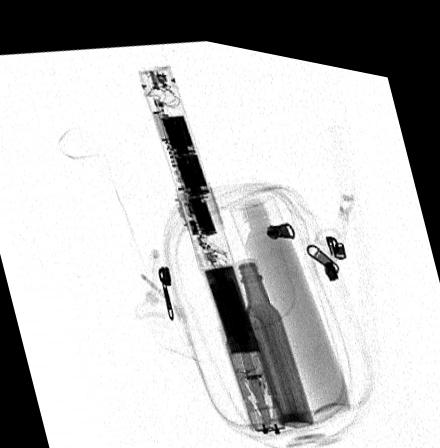Baton: (135, 59, 286, 426)
